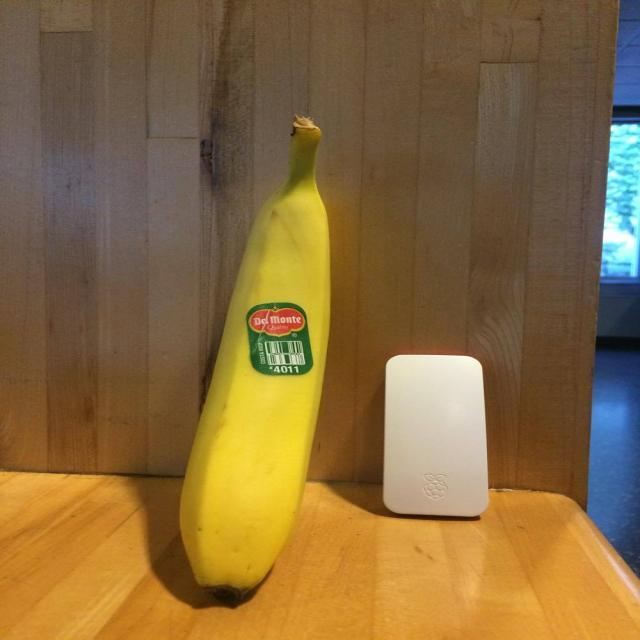Banana: (178, 112, 335, 606)
